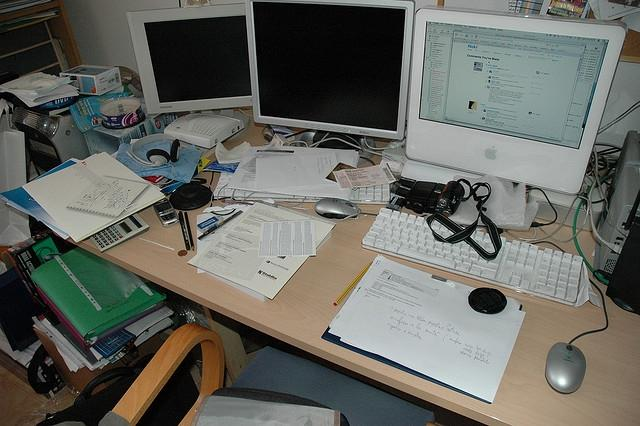apple: (484, 146, 496, 160)
